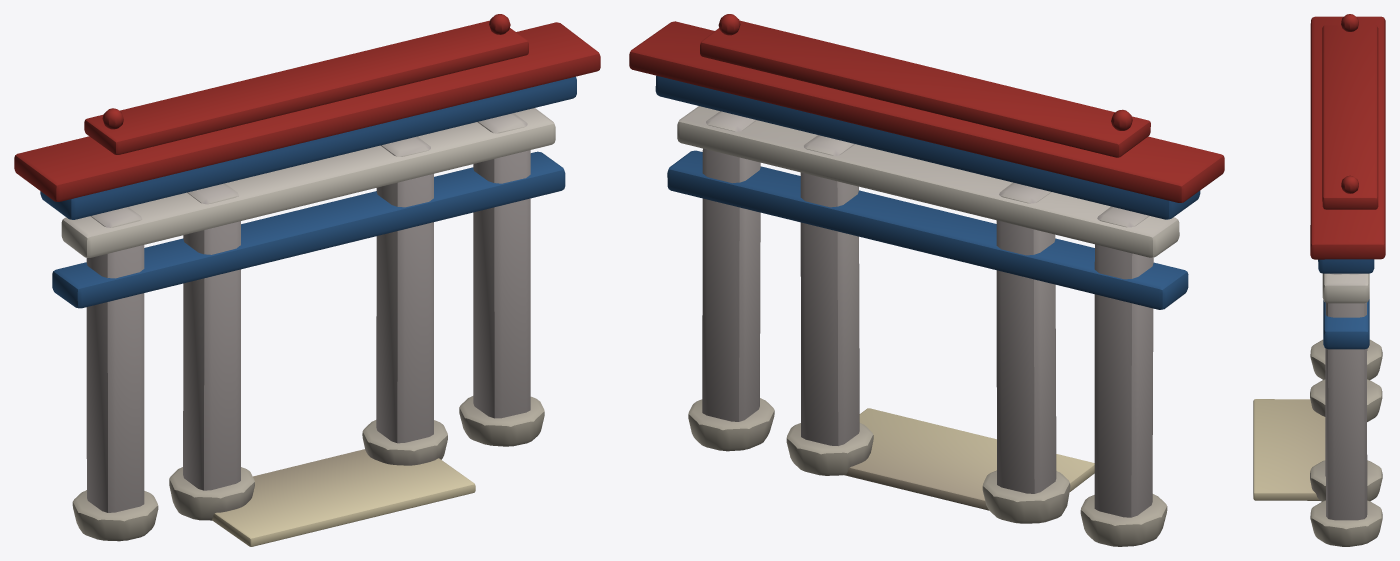
The picture shows the model from 3 angles, left to right: view 1: azimuth 30°, elevation 25°; view 2: azimuth 150°, elevation 25°; view 3: azimuth 270°, elevation 25°; orthographic projection. The views are drawn at different scales.
Parts seen in each view (by area): view 1: gate_d419ab57; view 2: gate_d419ab57; view 3: gate_d419ab57.
Part boxes in pixels (x1=…): gate_d419ab57: x1=14, y1=14, x2=600, y2=546; gate_d419ab57: x1=629, y1=14, x2=1224, y2=546; gate_d419ab57: x1=1253, y1=14, x2=1385, y2=546.
Size of the model in its own units: 5.8 by 4.25 by 1.42.
